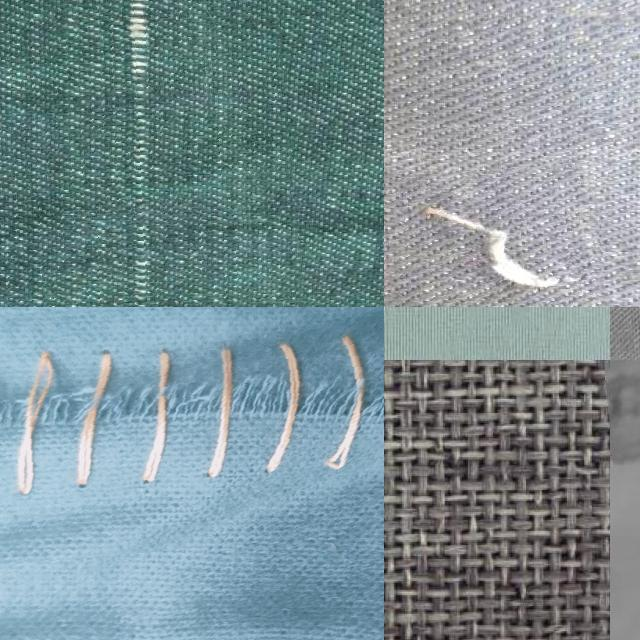Thread_other: (606, 358, 640, 488)
Thread_out: (0, 307, 384, 554)
stains: (384, 167, 604, 307)
